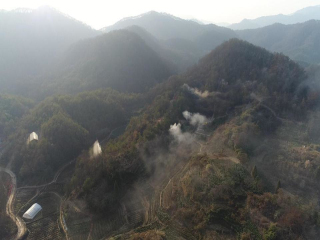smoke: (167, 109, 212, 148), (180, 82, 221, 101)
